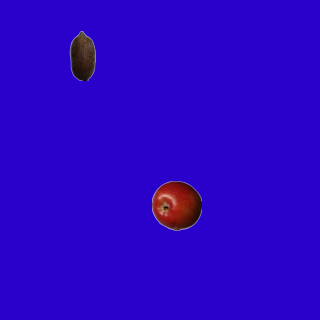Apple Braeburn: (151, 180, 201, 230)
Nut Pecan: (57, 30, 107, 80)
